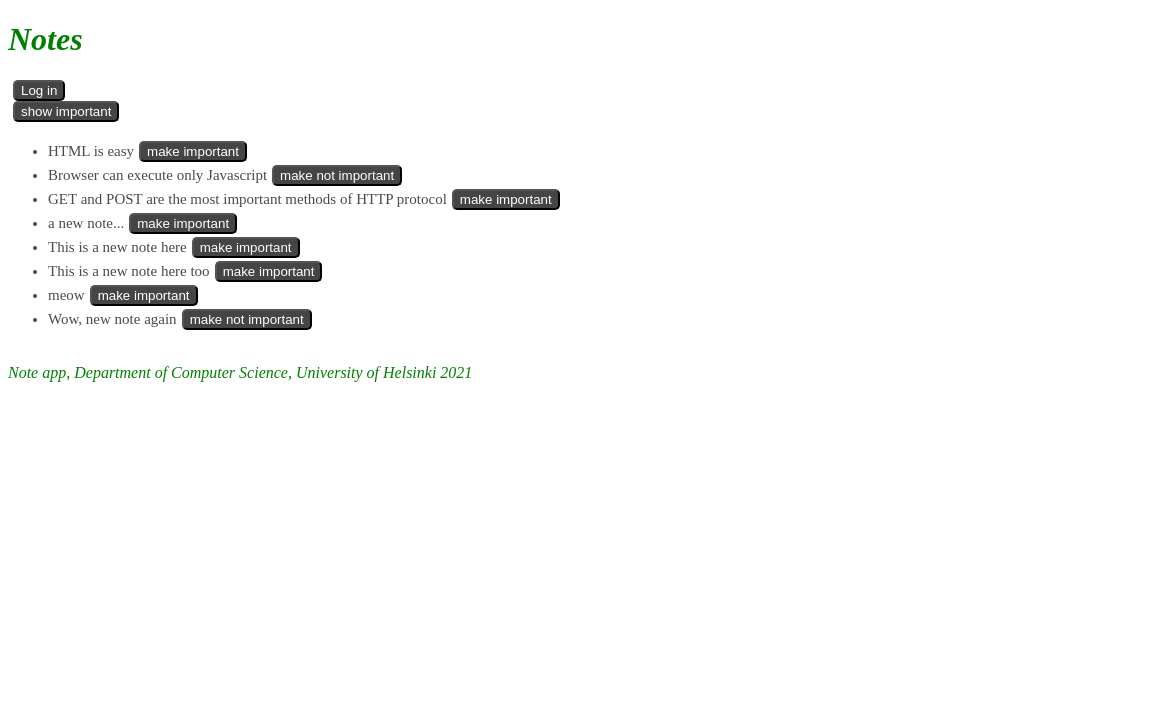
Test case: Note app › login fails with wrong password
The image size is (1152, 720).
Click the button "Log in": {"x": 39, "y": 91} [13,80,65,101]
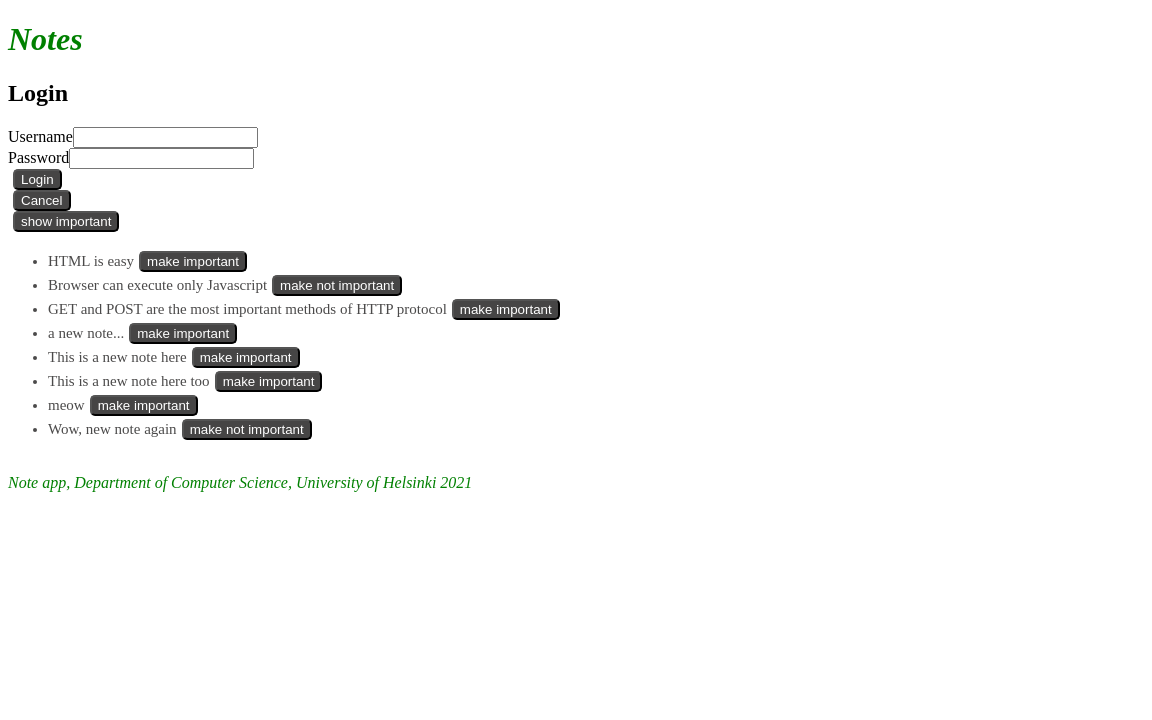
In the field with id "username": {"x": 166, "y": 138} [73,127,258,148], type "mluukkai"
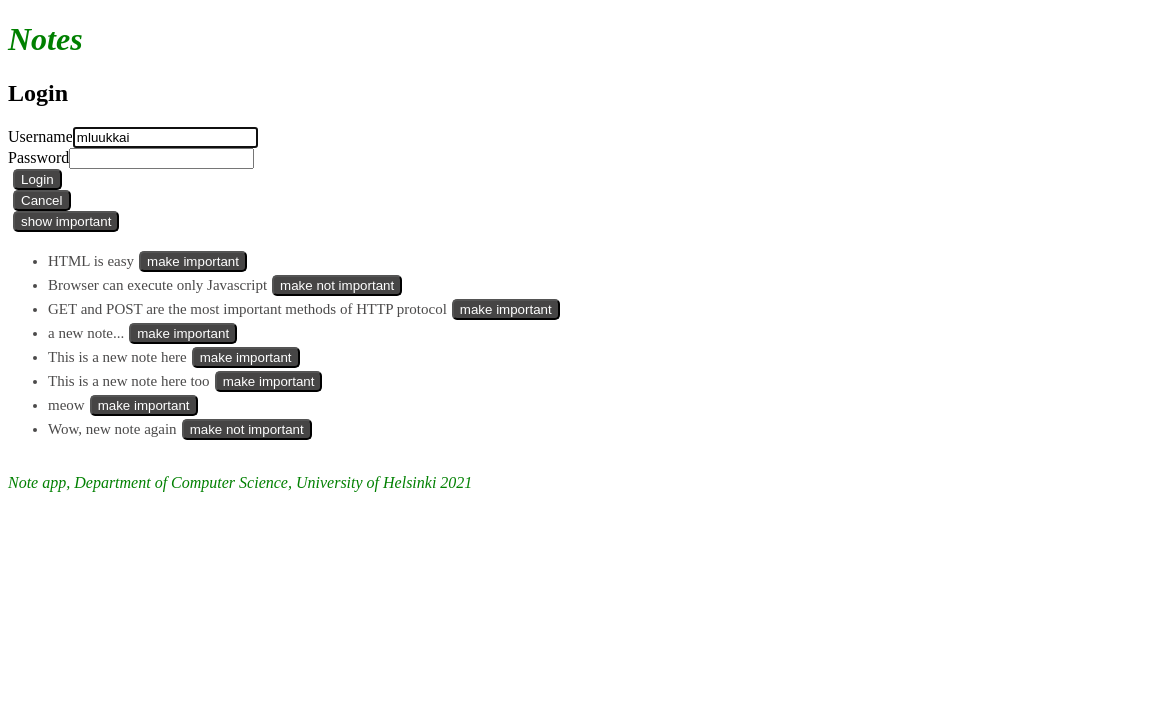
In the password field: {"x": 162, "y": 159} [69,148,254,169], type "wrong"
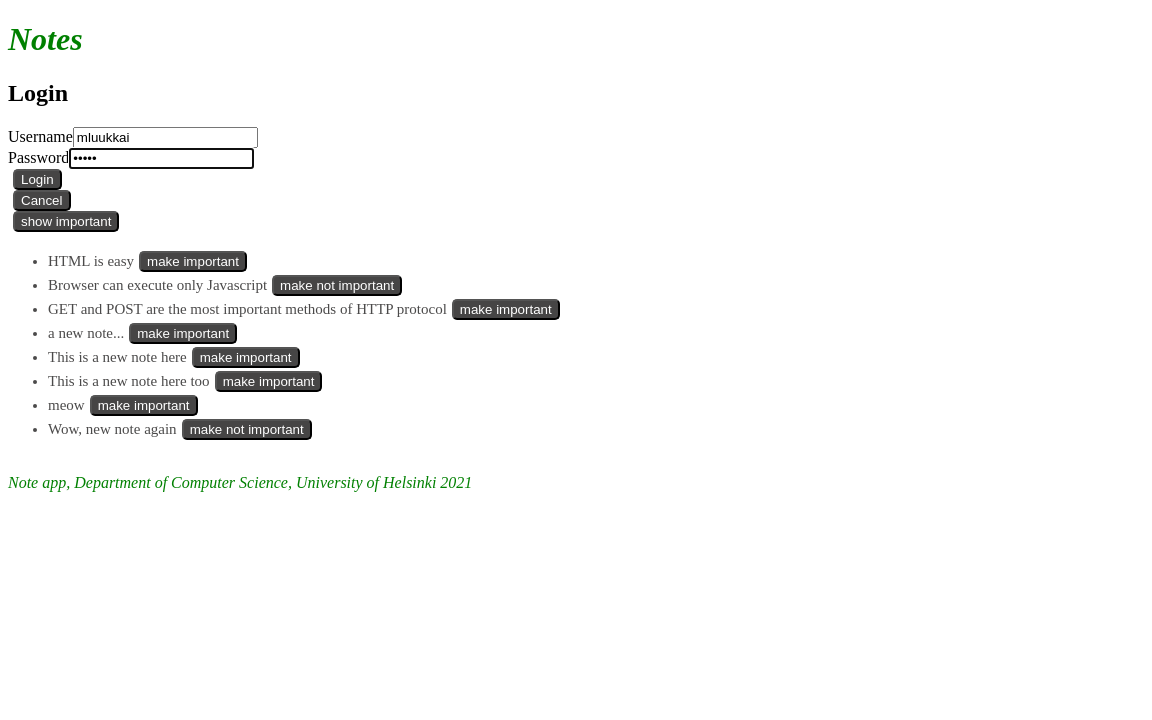
Click the button with id "login-button": {"x": 38, "y": 180} [13,169,62,190]
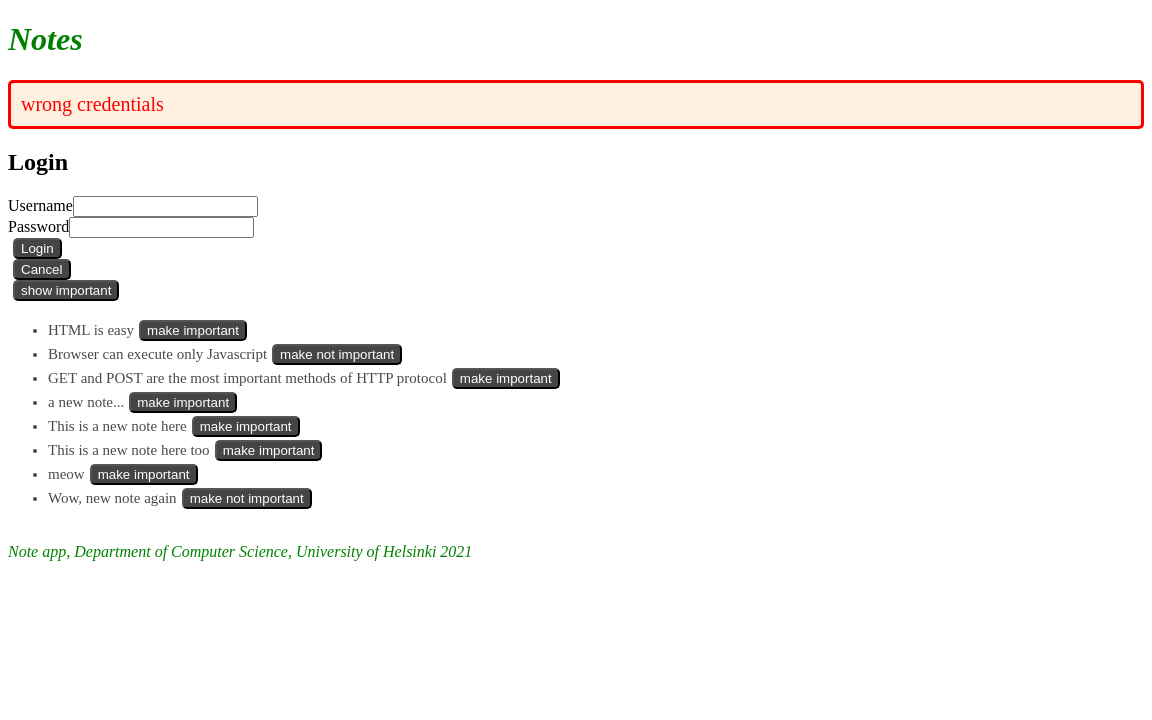
expect the text with class "error" reads "wrong credentials": met, box [21,93,164,115]
